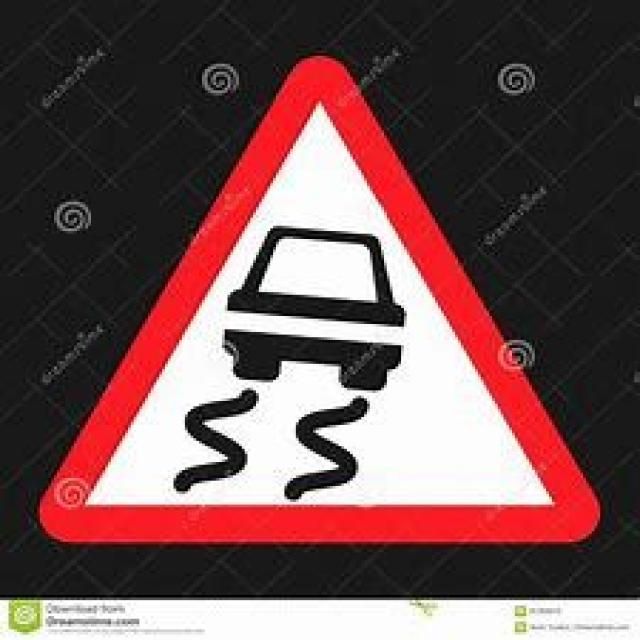children: (31, 53, 598, 542)
